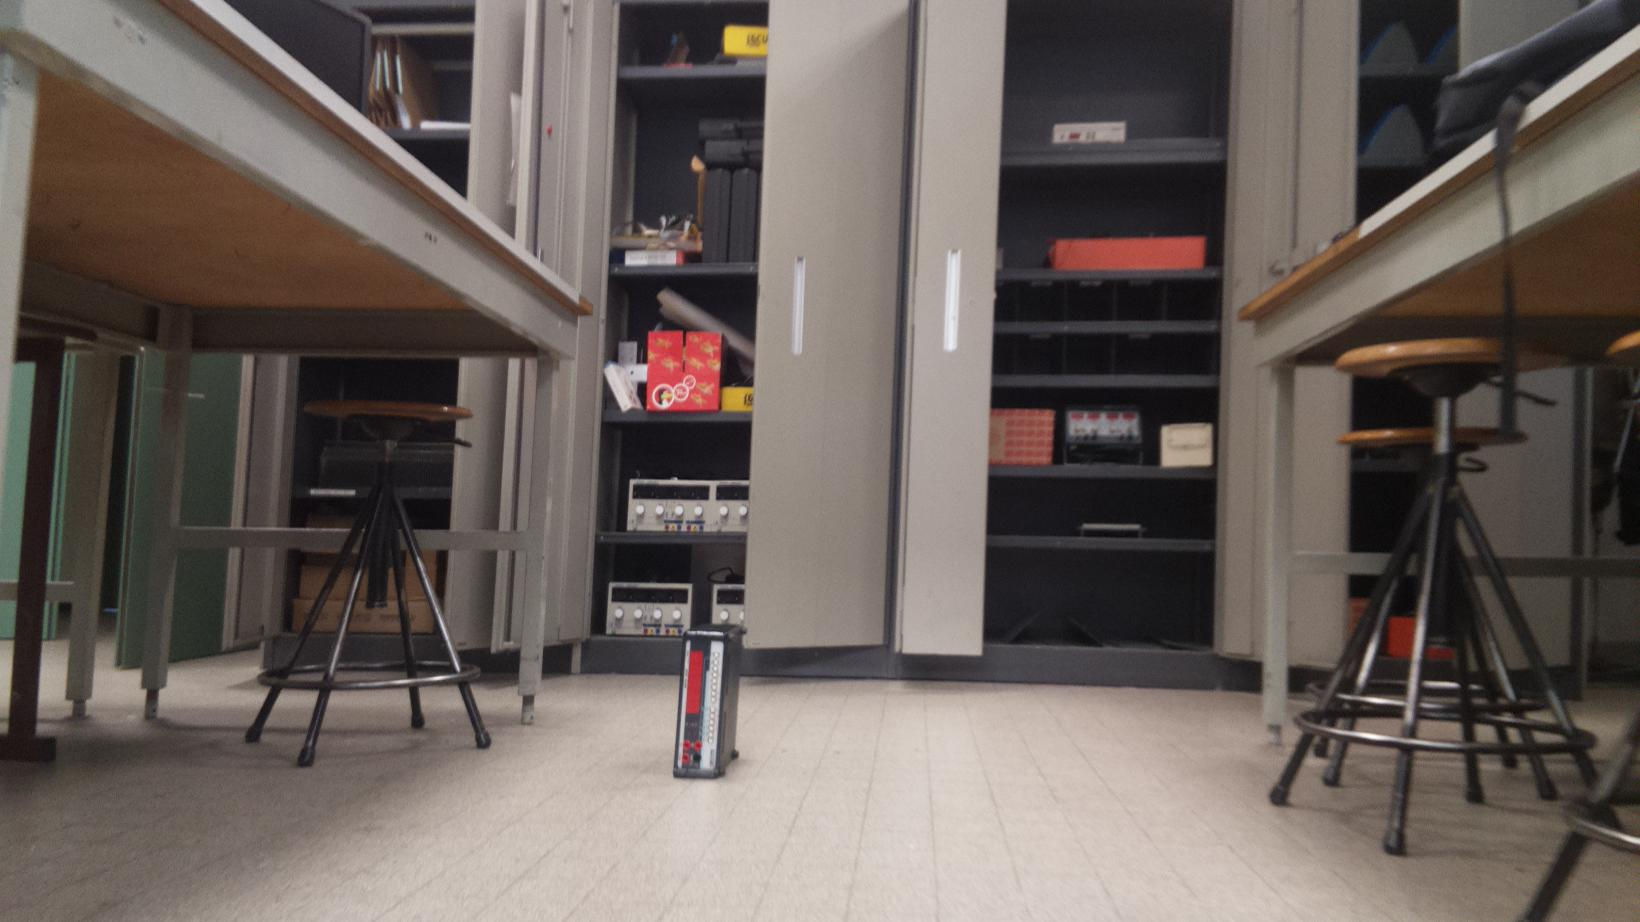medium: (671, 618, 746, 781)
